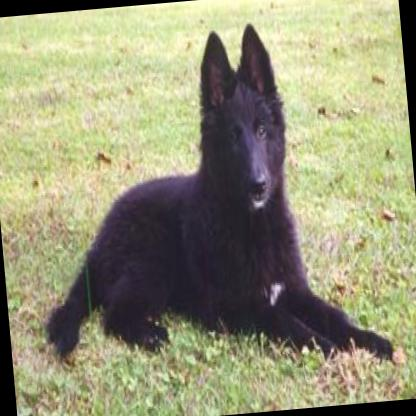groenendael: (21, 11, 395, 384)
